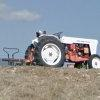Tractor: (20, 21, 100, 77)
